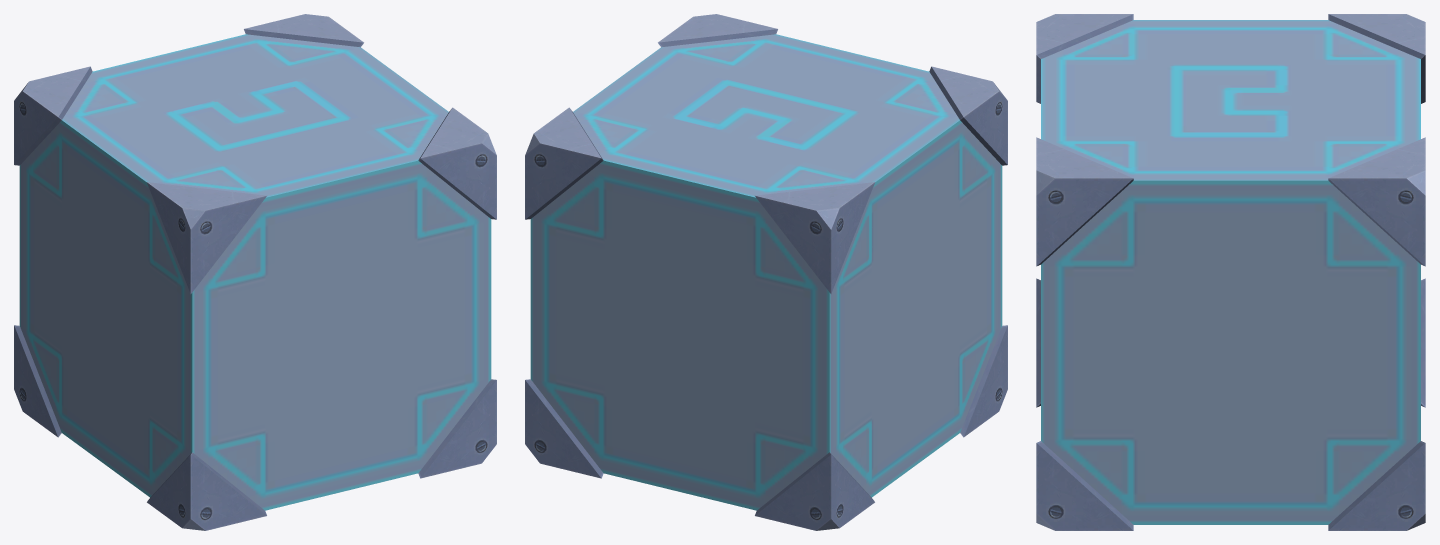
Rendered from DefensePathEnd.obj.
The picture shows the model from 3 angles, left to right: view 1: azimuth 30°, elevation 25°; view 2: azimuth 150°, elevation 25°; view 3: azimuth 270°, elevation 25°; orthographic projection. The views are drawn at different scales.
Parts seen in each view (by area): view 1: DefensePathEnd; view 2: DefensePathEnd; view 3: DefensePathEnd.
Boxes of the visible parts, x1,y1,x2,y2 form: DefensePathEnd: (14, 14, 496, 530); DefensePathEnd: (525, 14, 1007, 530); DefensePathEnd: (1036, 14, 1425, 530).
Size of the model in its own units: 3 by 3 by 3.
3 materials, 3 textured.
